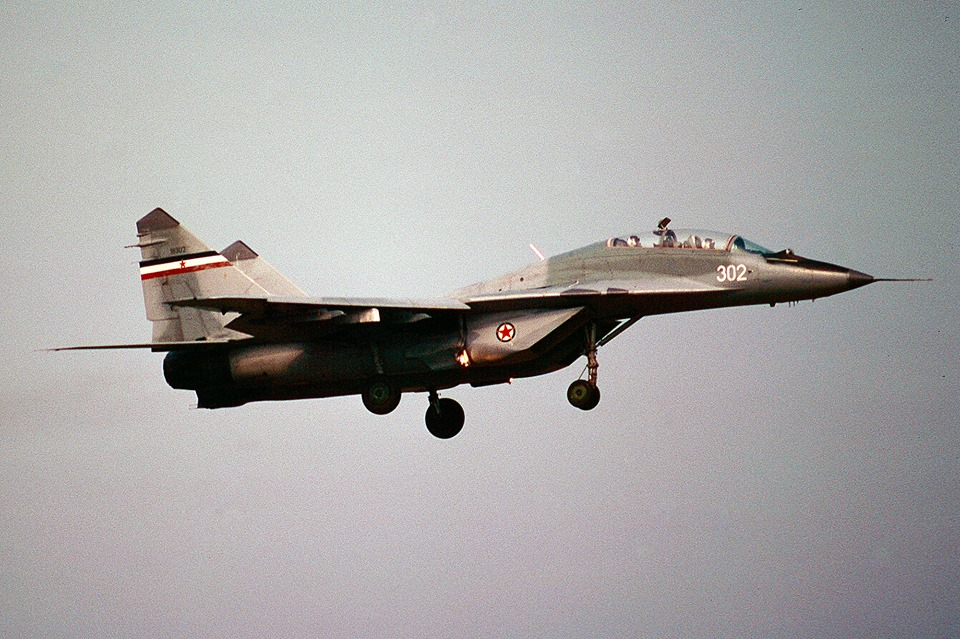Mig-29: (71, 151, 909, 448)
